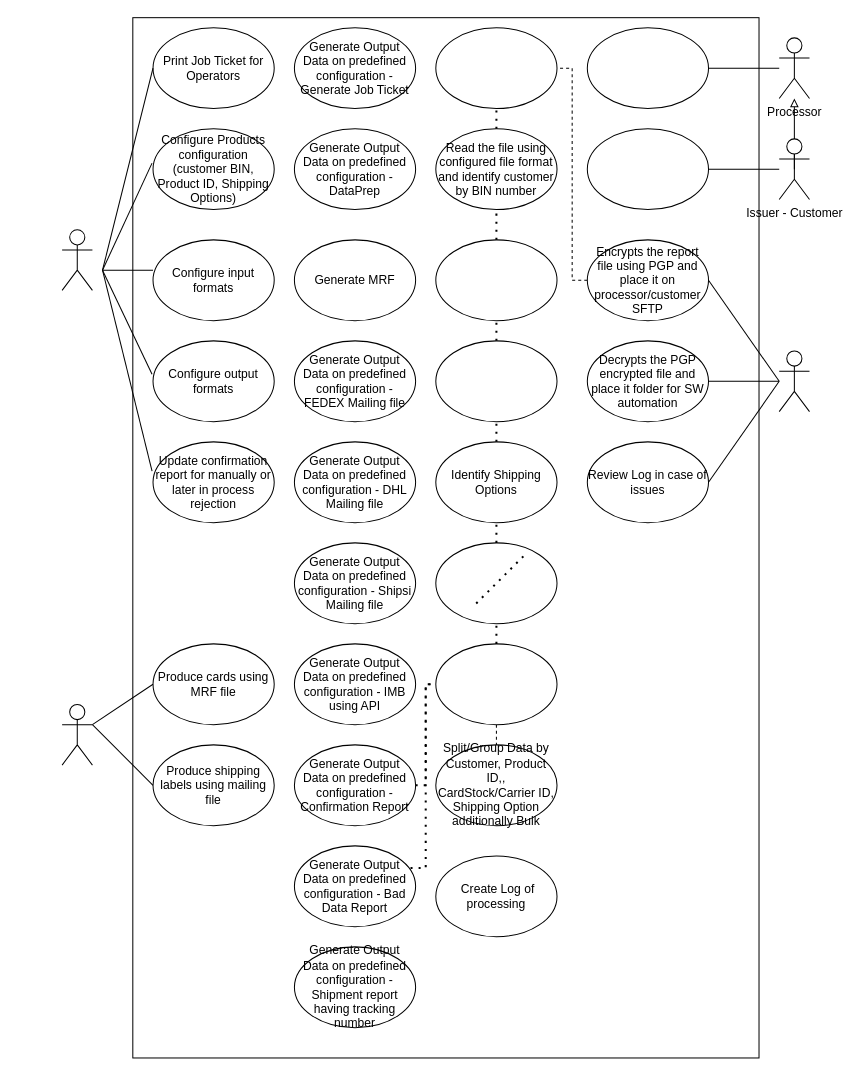
The diagram is 860 pixels wide and 1076 high, and some of its shapes have lost their labels. Each missing label, with the centre of its shape:
"Identify card stock or mailer by additional card stock or mailer ID" goes at (x=496, y=381).
"Identify Product Type by Product ID" goes at (x=496, y=280).
"Perso IT" goes at (x=794, y=381).
"Pull PGP encrypted report files" goes at (x=647, y=169).
"Push PGP Encrypted embossing file to SFTP" goes at (x=647, y=68).
"Recognize the Processer file format by folder/filename" goes at (x=496, y=68).
"User - Perso Admin" goes at (x=76, y=259).
"User - Perso Operator" goes at (x=76, y=734).
"Validate the data by cleansing address API" goes at (x=496, y=684).
"Validate the data by predefinec configuration" goes at (x=496, y=583).
